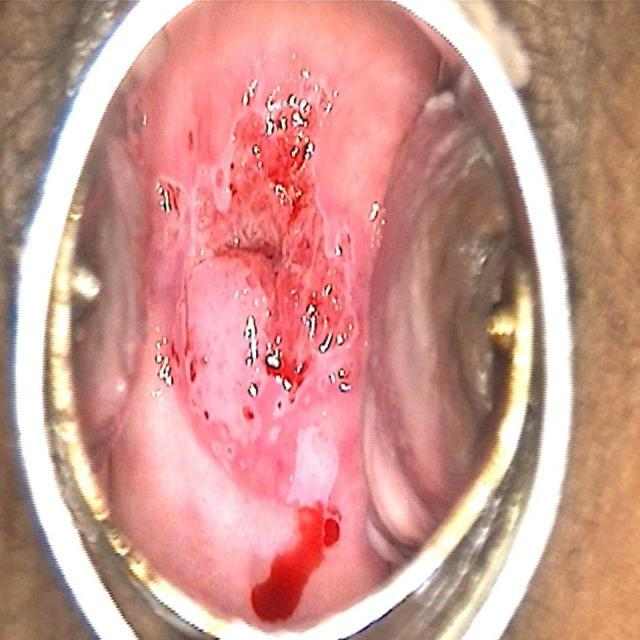cervical_lesion: (133, 73, 364, 523)
